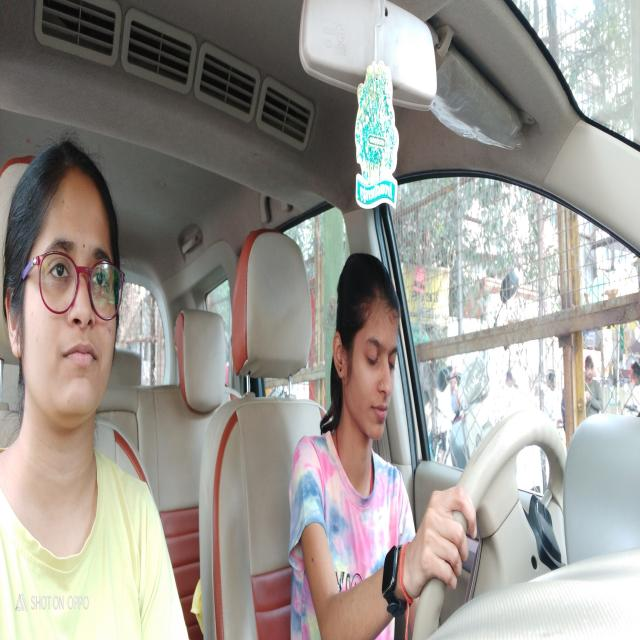drowsy: (330, 246, 404, 460)
person: (5, 132, 129, 450)
